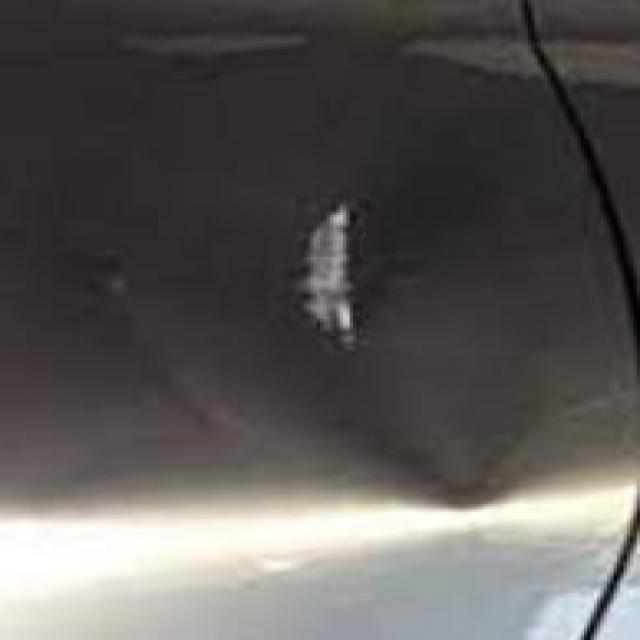dent: (249, 195, 553, 482)
